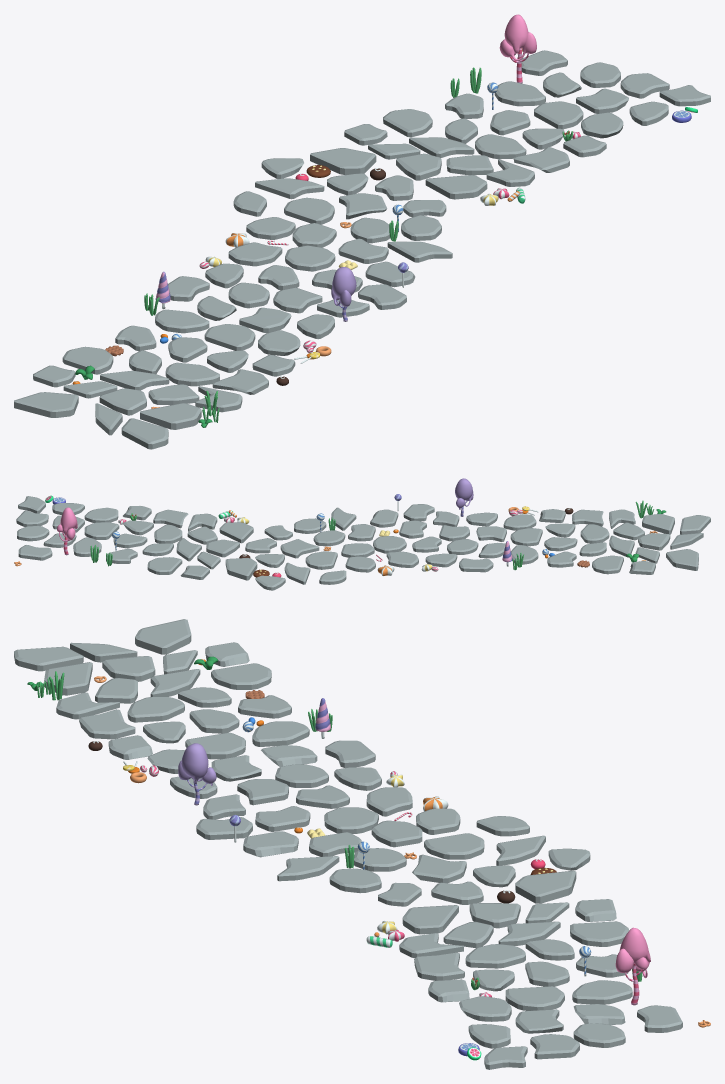
Rendered from customroadthird.gltf.
The picture shows the model from 3 angles, top to bottom: view 1: azimuth 30°, elevation 25°; view 2: azimuth 150°, elevation 25°; view 3: azimuth 270°, elevation 25°; orthographic projection. The views are drawn at different scales.
Visible parts, largest first — view 1: Alley_Gray_0.001, Tree_CottonCandy_02_LOD1_Mat_Candy_0, Tree_CottonCandy_01_LOD1_Mat_Candy_0; view 2: Alley_Gray_0.001, Tree_CottonCandy_02_LOD1_Mat_Candy_0, Tree_CottonCandy_01_LOD1_Mat_Candy_0; view 3: Alley_Gray_0.001, Tree_CottonCandy_02_LOD1_Mat_Candy_0, Tree_CottonCandy_01_LOD1_Mat_Candy_0.
Boxes of the visible parts, box(x1,y1,x2,y2) form: Alley_Gray_0.001: box(14, 50, 710, 449); Tree_CottonCandy_02_LOD1_Mat_Candy_0: box(499, 14, 536, 60); Tree_CottonCandy_01_LOD1_Mat_Candy_0: box(331, 267, 356, 306); Alley_Gray_0.001: box(16, 496, 710, 590); Tree_CottonCandy_02_LOD1_Mat_Candy_0: box(57, 507, 77, 541); Tree_CottonCandy_01_LOD1_Mat_Candy_0: box(455, 478, 473, 509); Alley_Gray_0.001: box(14, 619, 682, 1069); Tree_CottonCandy_02_LOD1_Mat_Candy_0: box(615, 927, 650, 978); Tree_CottonCandy_01_LOD1_Mat_Candy_0: box(178, 743, 216, 785).
Bounding box in the file's own units: 161 × 13.6 × 106.
31 materials, 30 textured.
